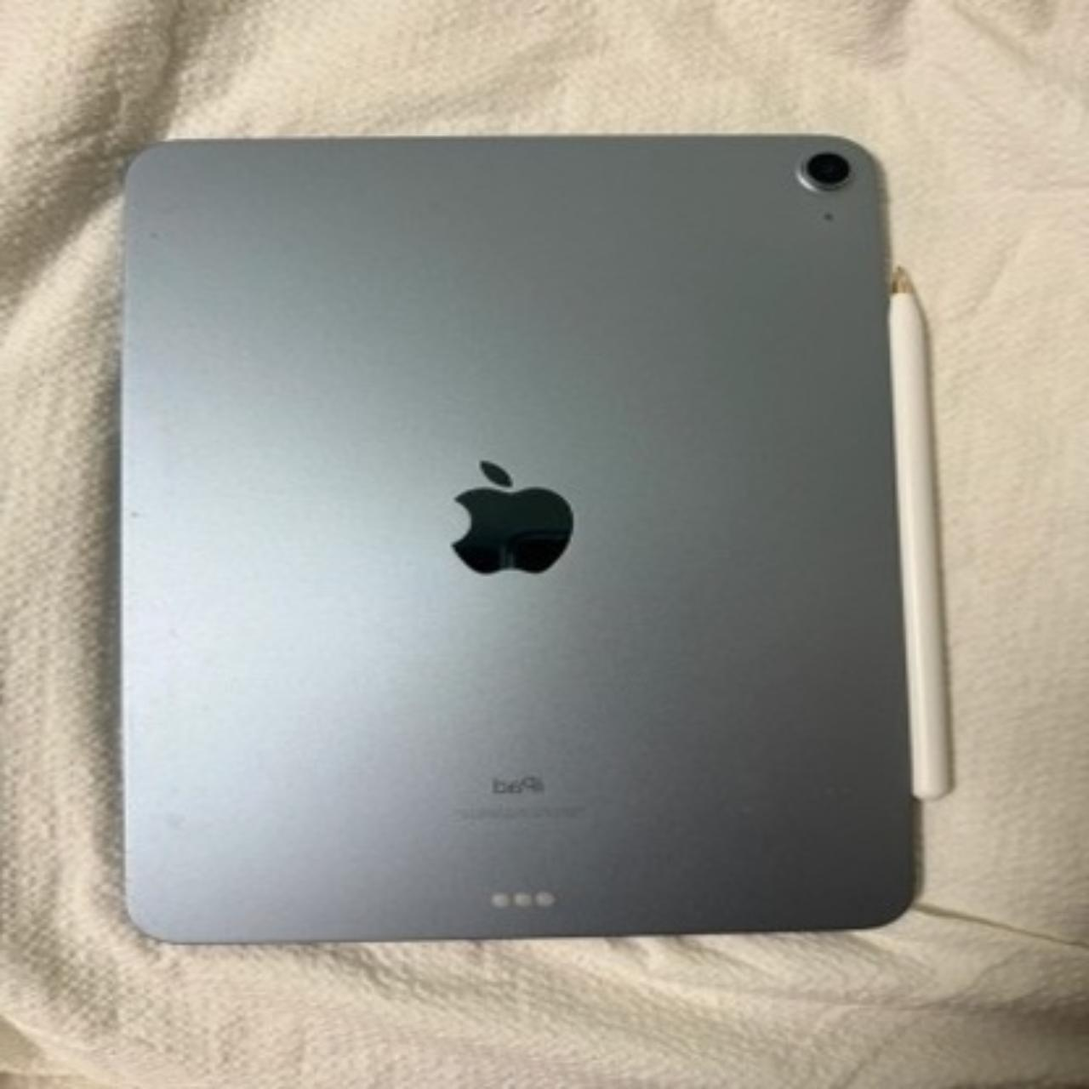Tablet_PC: (91, 123, 960, 979)
